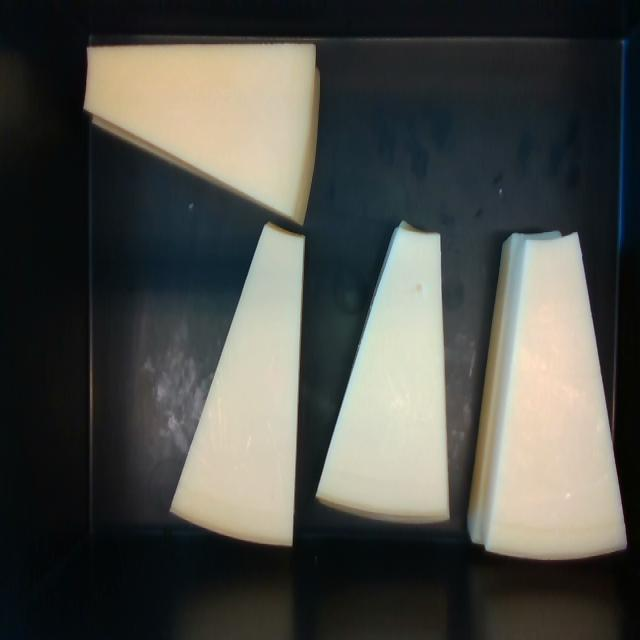cheese: (487, 233, 629, 559), (172, 224, 303, 543), (84, 44, 314, 223), (316, 223, 448, 521)
